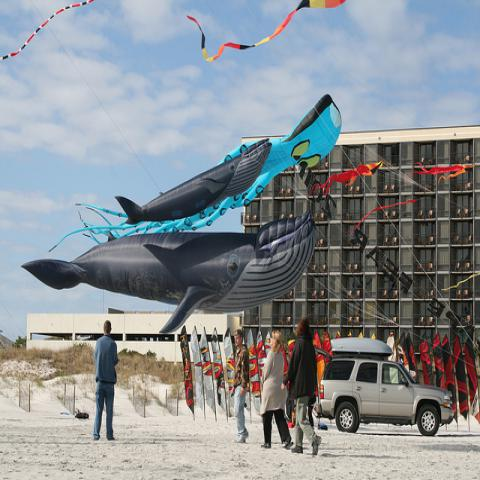car: (317, 356, 459, 442)
